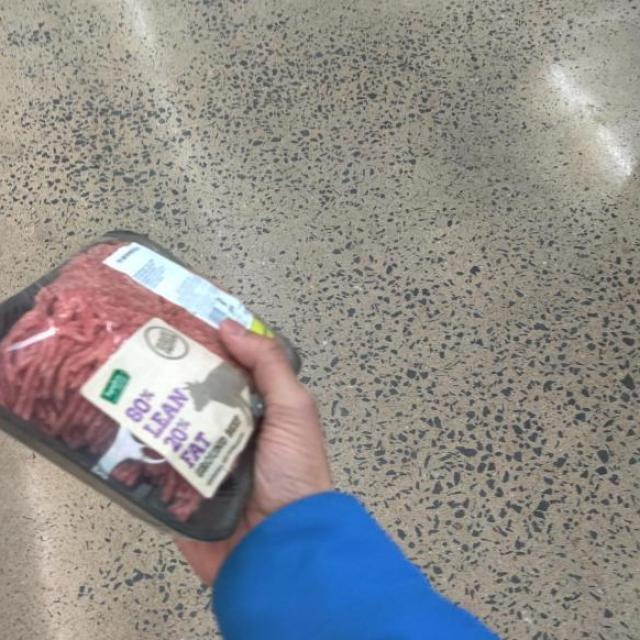Meat: (0, 228, 324, 545)
